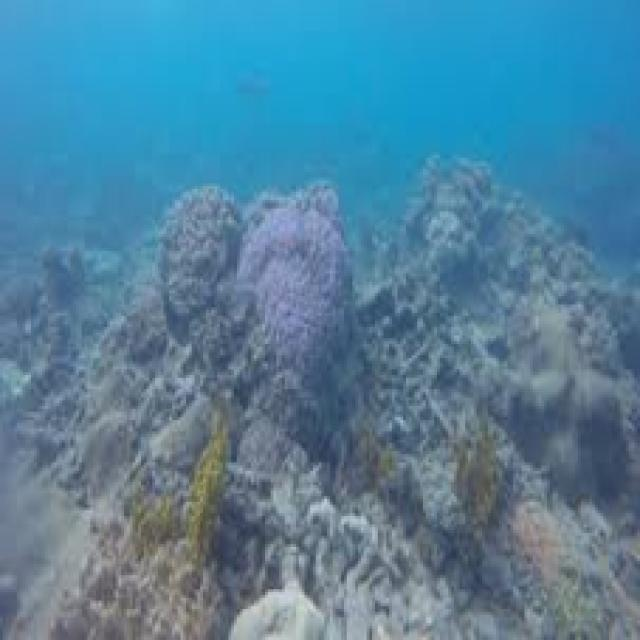Healthy: (242, 204, 352, 370), (183, 438, 233, 552), (457, 423, 500, 526)
